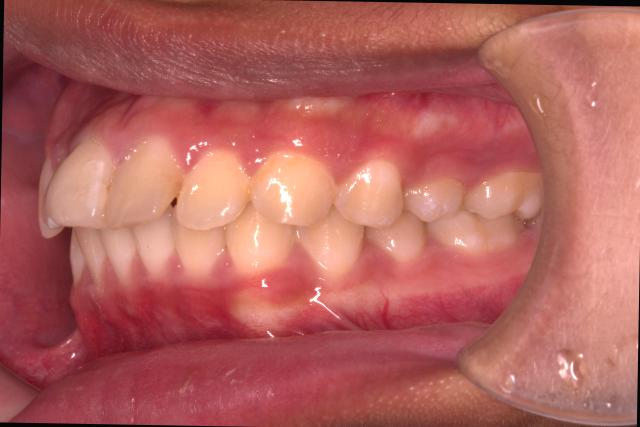canine class I: (220, 148, 368, 282)
molar class III 1/4: (426, 160, 546, 258)
